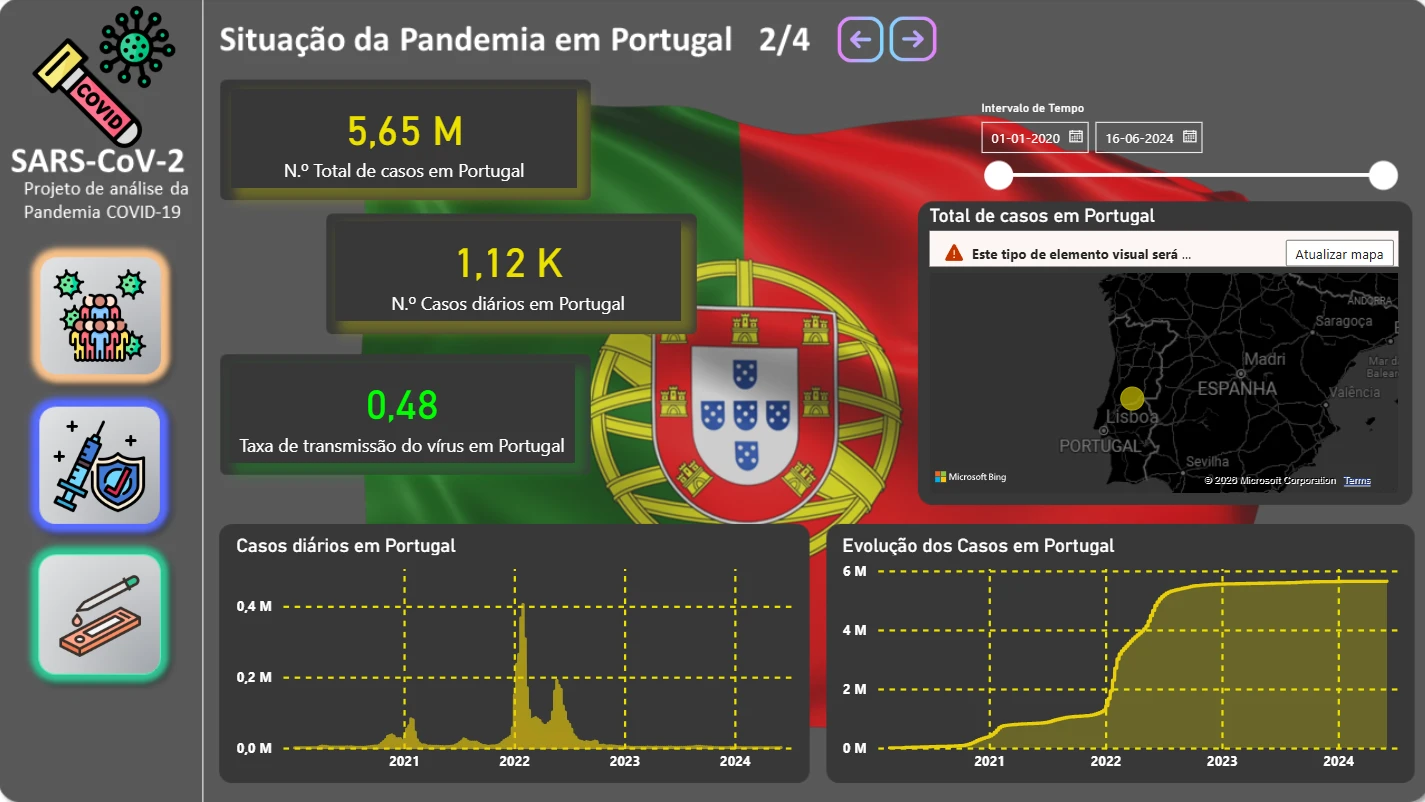

This screenshot's page, from the dashboard's own definition file:
{"tool":"powerbi","page":{"name":"Situação da Pandemia em Portugal 2/4","canvas":[1280,720],"ordinal":7},"visuals":[{"type":"image","box":[45,373.3,91.7,91.7],"z":0},{"type":"image","box":[46.7,510,90,88.3],"z":1000},{"type":"image","box":[10,1.7,170,138.3],"z":2000},{"type":"image","box":[45,233.3,93.3,103.3],"z":3000},{"type":"image","box":[794.1,11.9,52.4,50],"z":4000},{"type":"card","fields":{"Values":["Medidas utilizadas nas páginas 'Situação da Pandemia em Portugal'.N.º Total de casos em Portugal"]},"box":[209.1,81.8,310,89.1],"z":5000},{"type":"card","fields":{"Values":["Medidas utilizadas nas páginas 'Situação da Pandemia em Portugal'.N.º Casos diários Portugal"]},"box":[301.7,200,310,90],"z":6000},{"type":"card","fields":{"Values":["Medidas utilizadas nas páginas 'Situação da Pandemia em Portugal'.Taxa de transmissão do vírus Portugal"]},"box":[206.7,326.7,310,90],"z":7000},{"type":"map","title":"Total de casos em Portugal","fields":{"Category":["Locais.location"],"Size":["Medidas utilizadas nas páginas 'Pandemia Covid-19'.N.º Total de casos"]},"box":[829.8,184.5,429.8,264.3],"z":8000},{"type":"areaChart","title":"Evolução dos Casos em Portugal","fields":{"Y":["Medidas utilizadas nas páginas 'Situação da Pandemia em Portugal'.N.º Total de casos em Portugal"],"Category":["Datas.date"]},"box":[751.7,480,511.7,221.7],"z":9000},{"type":"areaChart","title":"Casos diários em Portugal","fields":{"Y":["Medidas utilizadas nas páginas 'Situação da Pandemia em Portugal'.N.º Casos diários em Portugal"],"Category":["Datas.date"]},"box":[208.3,480,511.7,221.7],"z":10000},{"type":"slicer","fields":{"Values":["Datas.date"]},"box":[867.9,86.9,394,89.3],"z":11000},{"type":"image","box":[746.4,11.9,52.4,51.2],"z":12000}]}

Visuals, with their boxes in screenshot pixels (x1, y1, x2, y2), scaled from the page's 1280x720 canvas onto the 1425x802 screenshot:
image: [x1=50, y1=416, x2=152, y2=518]
image: [x1=52, y1=568, x2=152, y2=666]
image: [x1=11, y1=2, x2=200, y2=156]
image: [x1=50, y1=260, x2=154, y2=375]
image: [x1=884, y1=13, x2=942, y2=69]
card - Medidas utilizadas nas páginas 'Situação da Pandemia em Portugal'.N.º Total de casos em Portugal: [x1=233, y1=91, x2=578, y2=190]
card - Medidas utilizadas nas páginas 'Situação da Pandemia em Portugal'.N.º Casos diários Portugal: [x1=336, y1=223, x2=681, y2=323]
card - Medidas utilizadas nas páginas 'Situação da Pandemia em Portugal'.Taxa de transmissão do vírus Portugal: [x1=230, y1=364, x2=575, y2=464]
"Total de casos em Portugal" map: [x1=924, y1=206, x2=1402, y2=500]
"Evolução dos Casos em Portugal" areaChart: [x1=837, y1=535, x2=1407, y2=782]
"Casos diários em Portugal" areaChart: [x1=232, y1=535, x2=802, y2=782]
slicer - Datas.date: [x1=966, y1=97, x2=1405, y2=196]
image: [x1=831, y1=13, x2=889, y2=70]
